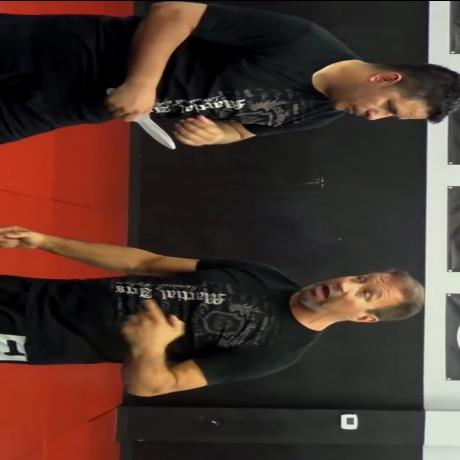1: (0, 222, 430, 397), (0, 1, 460, 144)
weapon: (106, 87, 178, 149)
